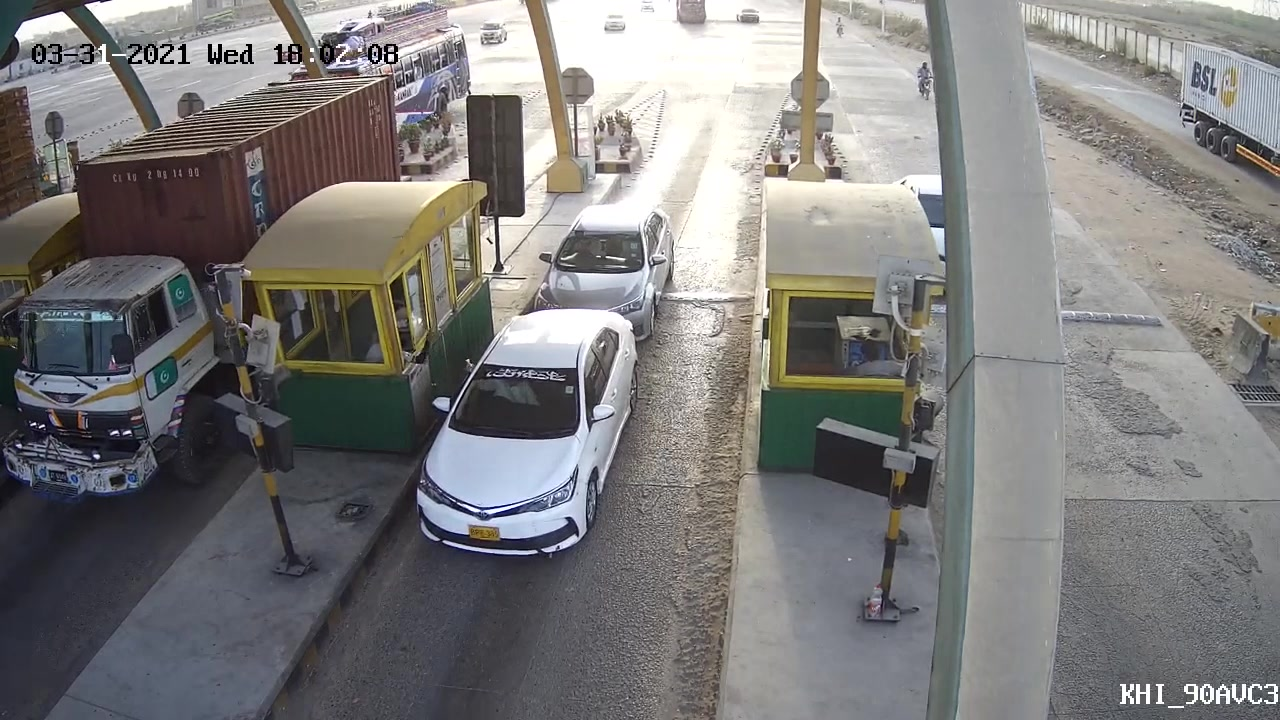F1: (397, 298, 648, 562)
